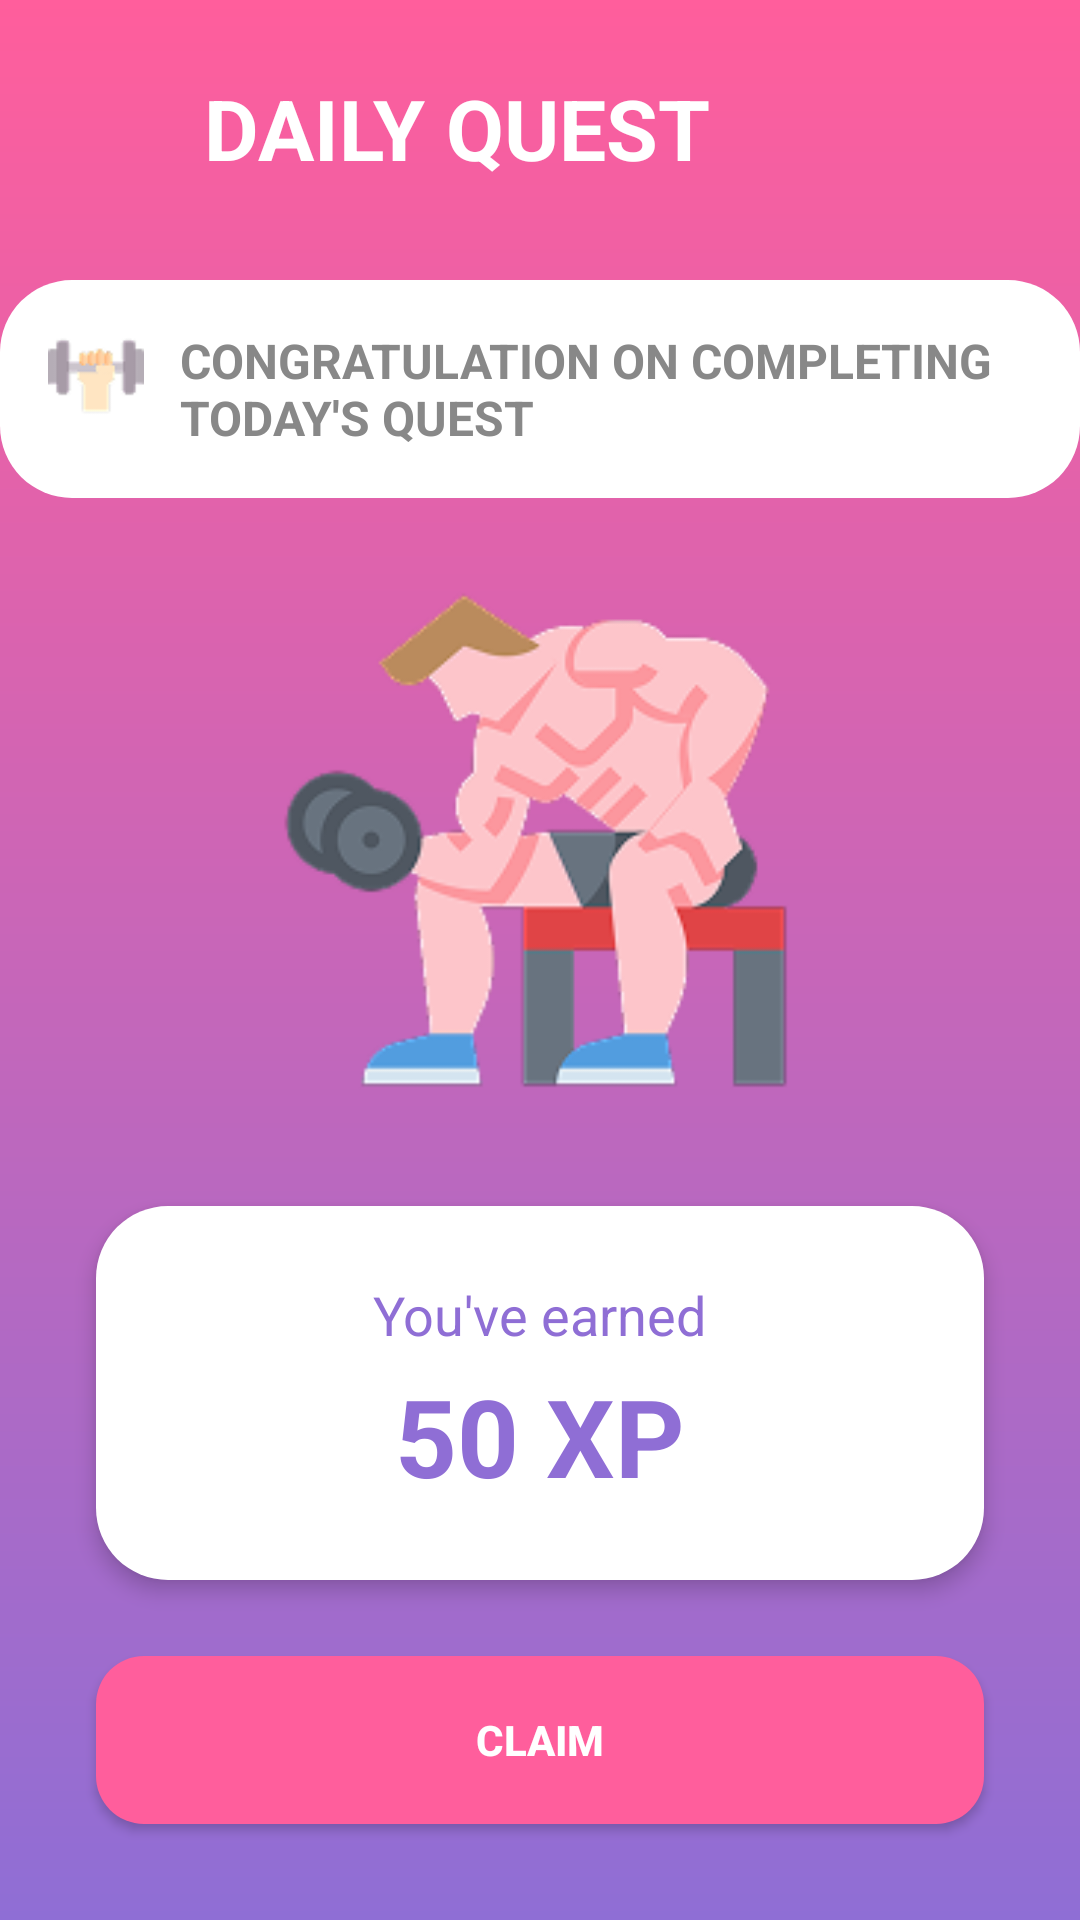

Where to tap for icons on this 1080x1920 app screen, as [x,y]:
dumbbell: [96,375]
